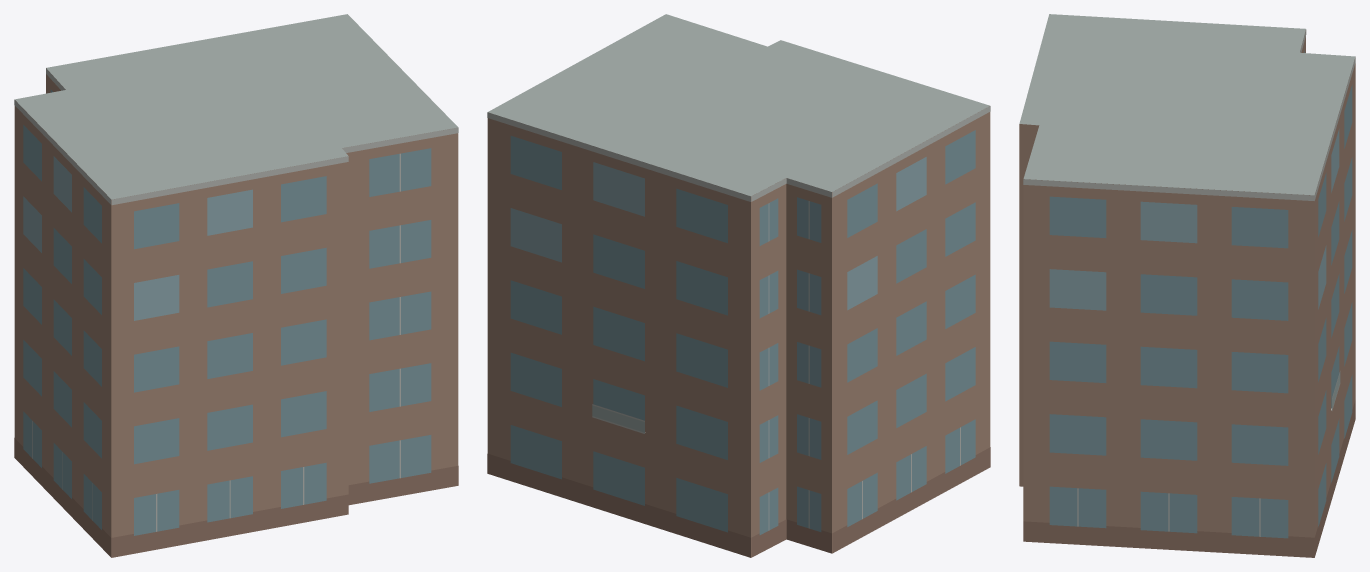
File: survey-upis-32499251.glb
3 renders of one model, left to right at view 1: azimuth 30°, elevation 25°; view 2: azimuth 150°, elevation 25°; view 3: azimuth 270°, elevation 25°, orthographic.
Visible parts, largest first — view 1: survey-upis-32499251.tmp; view 2: survey-upis-32499251.tmp; view 3: survey-upis-32499251.tmp.
Part boxes in pixels (x1=…): survey-upis-32499251.tmp: x1=14, y1=14, x2=458, y2=557; survey-upis-32499251.tmp: x1=487, y1=14, x2=990, y2=557; survey-upis-32499251.tmp: x1=1019, y1=14, x2=1355, y2=557.
Bounding box in the file's own units: 16.37 × 15.25 × 12.83.
